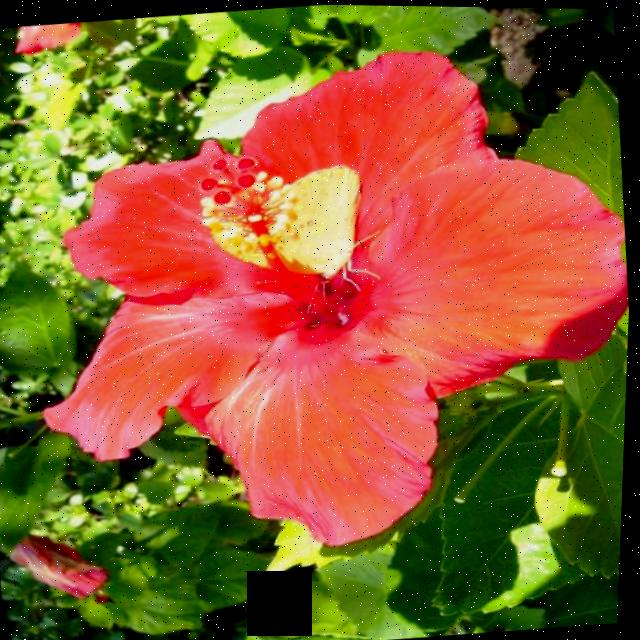hibiscus: (0, 0, 640, 621)
